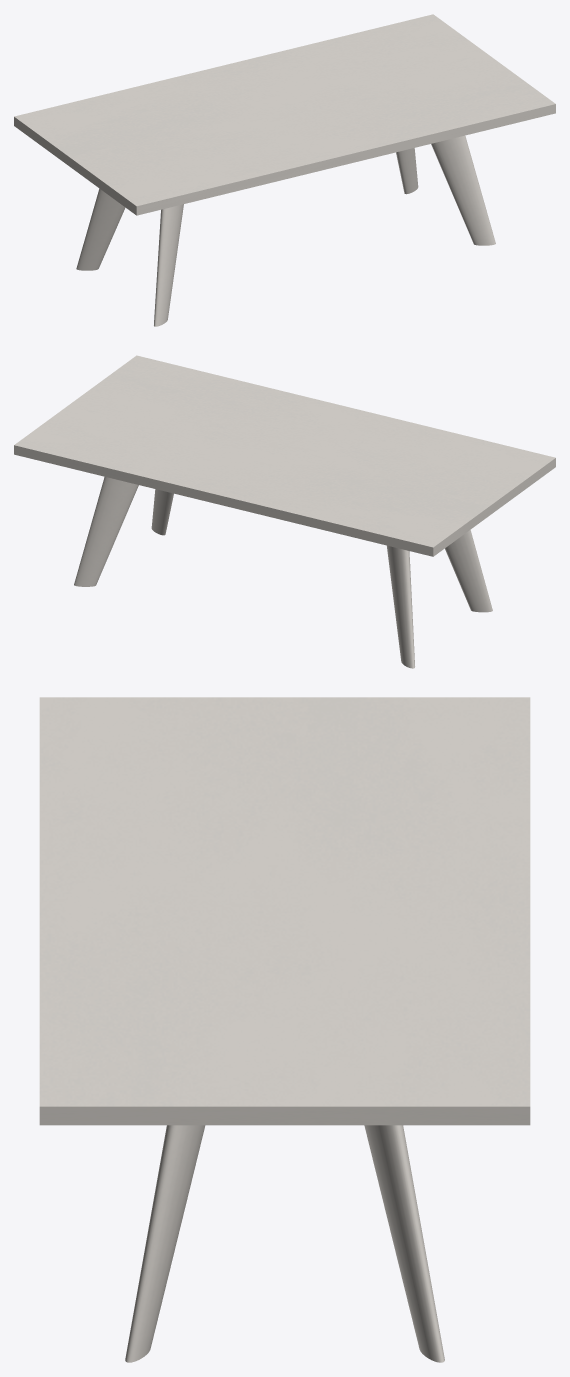
The model's file is pearlwhite_recta_standard_ferdinantwalnut.glb.
The picture shows the model from 3 angles, top to bottom: view 1: azimuth 30°, elevation 25°; view 2: azimuth 150°, elevation 25°; view 3: azimuth 270°, elevation 25°; orthographic projection. The views are drawn at different scales.
Visible parts, largest first — view 1: standard_recta, ferdinandwalnut; view 2: standard_recta, ferdinandwalnut; view 3: standard_recta, ferdinandwalnut.
Part boxes in pixels (<box>): standard_recta: <box>14,14,555,215</box>; ferdinandwalnut: <box>76,135,495,326</box>; standard_recta: <box>14,355,555,556</box>; ferdinandwalnut: <box>74,477,492,668</box>; standard_recta: <box>39,697,530,1125</box>; ferdinandwalnut: <box>125,1125,444,1362</box>.
Size of the model in its own units: 7.5 by 2.51 by 3.8.
1 material, 1 textured.
